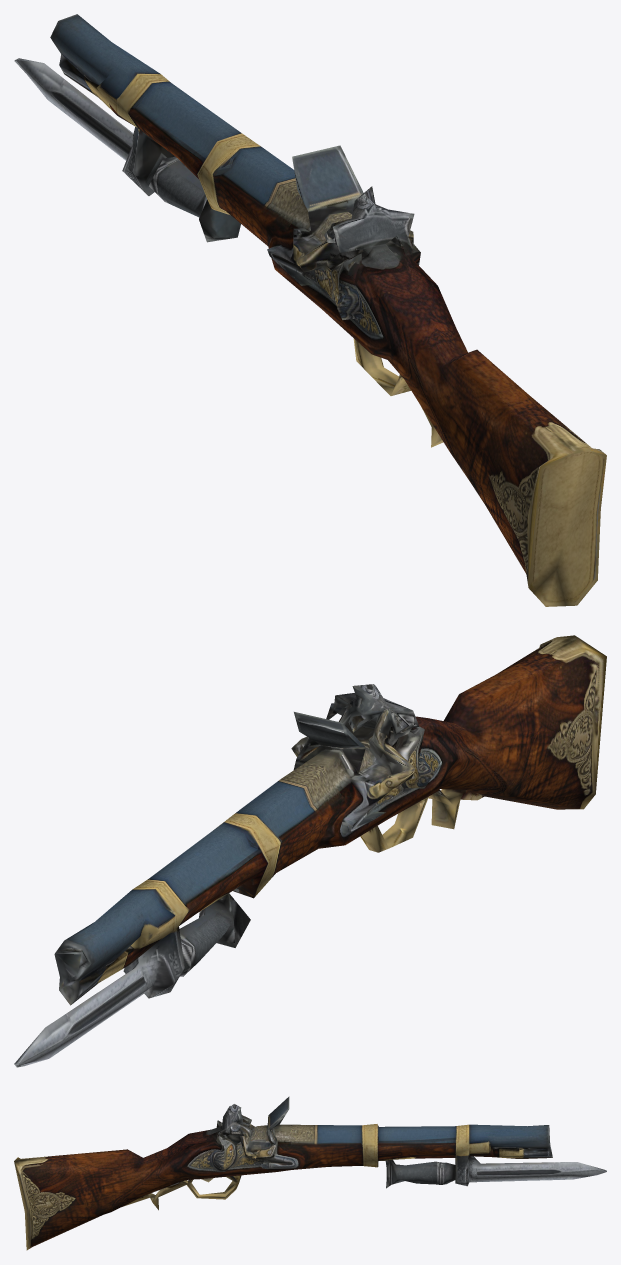
File: infantry_base_musket.fbx
3 views of the same model, one above another, from view 1: azimuth 30°, elevation 25°; view 2: azimuth 150°, elevation 25°; view 3: azimuth 270°, elevation 25° (orthographic). The views are drawn at different scales.
Visible parts, largest first — view 1: tripo_node_7bcafc49-55d1-479f-b33a-abc8e94fbb36; view 2: tripo_node_7bcafc49-55d1-479f-b33a-abc8e94fbb36; view 3: tripo_node_7bcafc49-55d1-479f-b33a-abc8e94fbb36.
Boxes of the visible parts, x1,y1,x2,y2 form: tripo_node_7bcafc49-55d1-479f-b33a-abc8e94fbb36: (14, 14, 606, 606); tripo_node_7bcafc49-55d1-479f-b33a-abc8e94fbb36: (14, 635, 606, 1067); tripo_node_7bcafc49-55d1-479f-b33a-abc8e94fbb36: (14, 1096, 606, 1250).
Bounding box in the file's own units: 11.87 × 26.5 × 98.04.
1 material, 1 textured.
